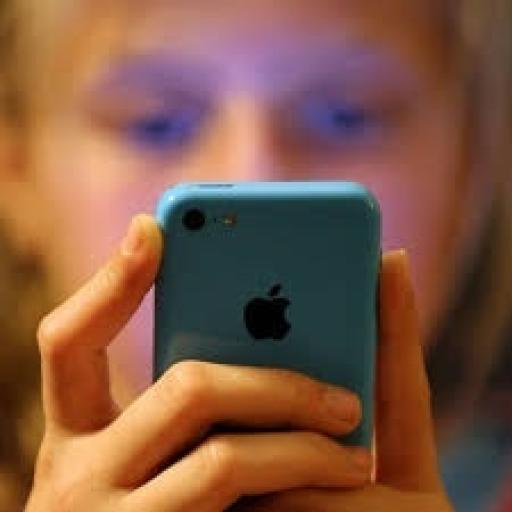texting: (0, 0, 510, 510)
